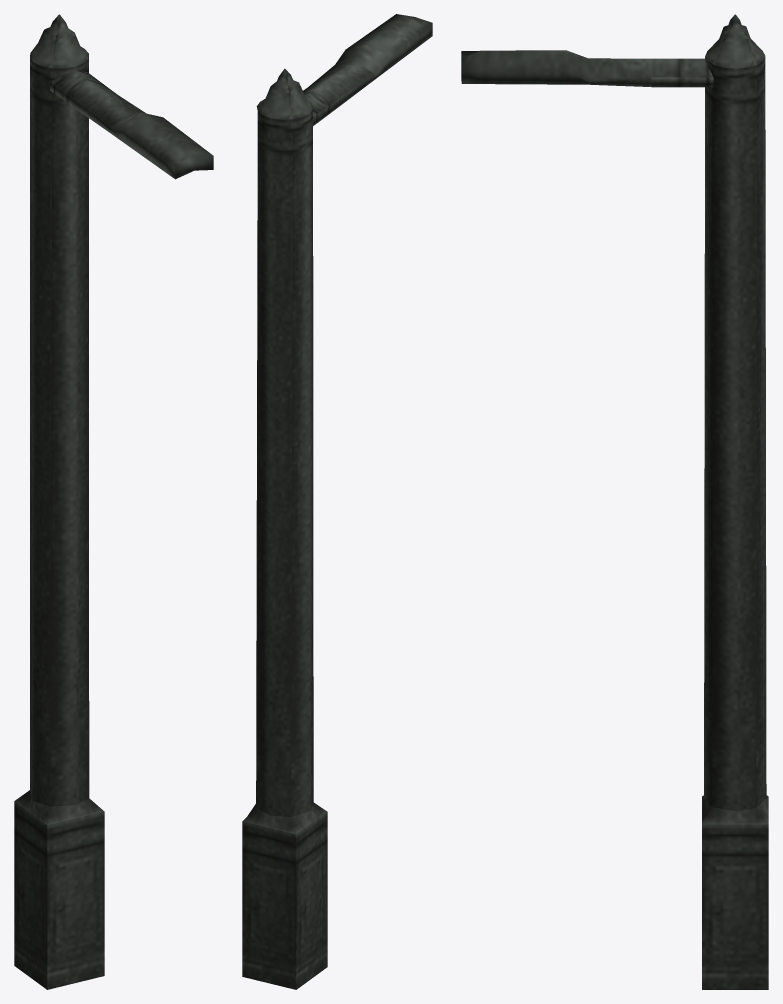
Rendered from SM_EC_Lampost_0.fbx.
3 renders of one model, left to right at view 1: azimuth 30°, elevation 25°; view 2: azimuth 150°, elevation 25°; view 3: azimuth 270°, elevation 25°, orthographic. The views are drawn at different scales.
Visible parts, largest first — view 1: SM_EC_Lampost_0; view 2: SM_EC_Lampost_0; view 3: SM_EC_Lampost_0.
Part boxes in pixels (left/top/right/bottom): SM_EC_Lampost_0: left=14, top=14, right=213, bottom=989; SM_EC_Lampost_0: left=242, top=14, right=432, bottom=989; SM_EC_Lampost_0: left=461, top=14, right=768, bottom=989.
Size of the model in its own units: 0.2901 by 1.34 by 4.62.
